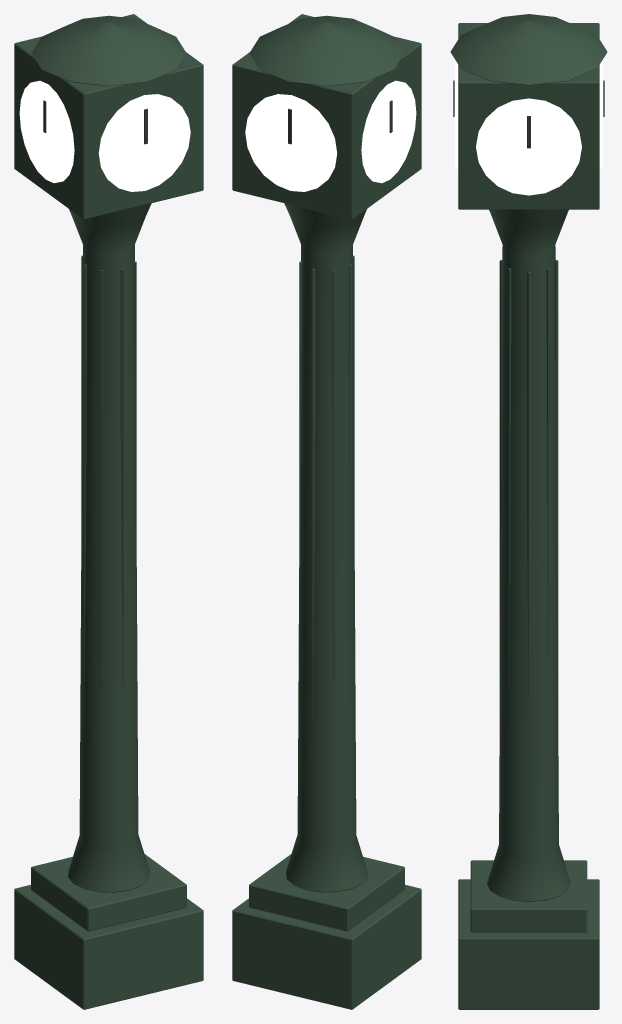
File: prop_rt_clock_pillar.glb
The picture shows the model from 3 angles, left to right: view 1: azimuth 30°, elevation 25°; view 2: azimuth 150°, elevation 25°; view 3: azimuth 270°, elevation 25°; orthographic projection.
Visible parts, largest first — view 1: Body; view 2: Body; view 3: Body.
Boxes of the visible parts, x1,y1,x2,y2 form: Body: [14, 14, 203, 1009]; Body: [232, 14, 421, 1009]; Body: [450, 14, 607, 1009].
Size of the model in its own units: 0.8898 by 6 by 0.8898.
